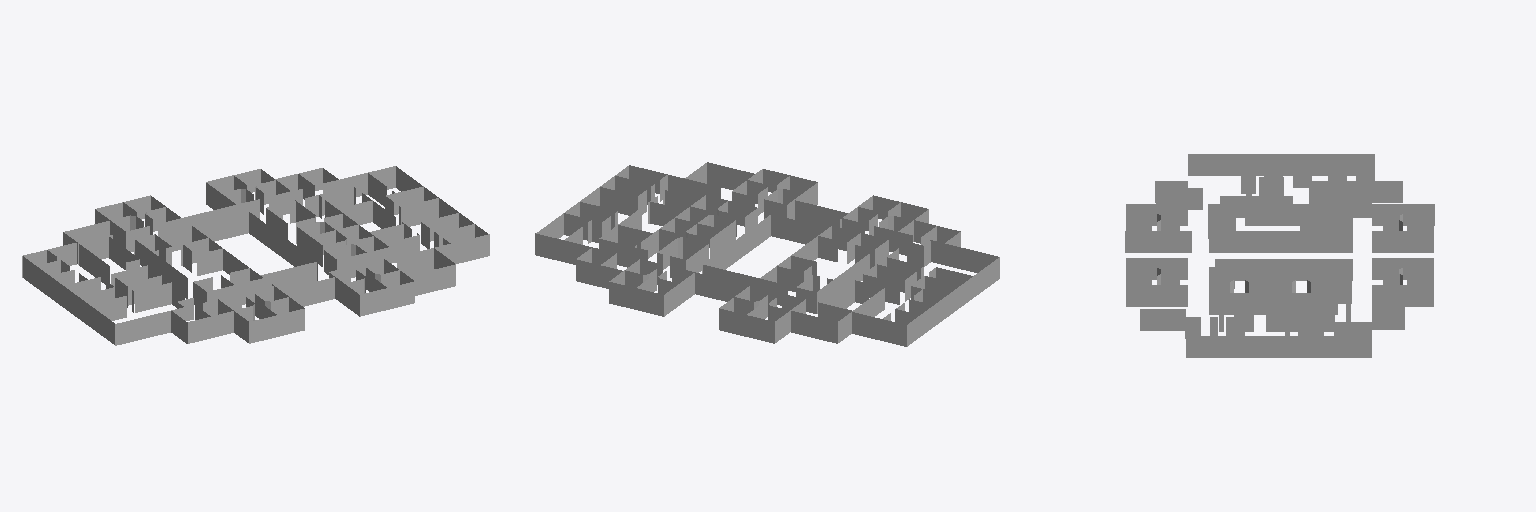
Rendered from bright_4th_floor_walls.obj.
3 views of the same model, side by side, from view 1: azimuth 30°, elevation 25°; view 2: azimuth 150°, elevation 25°; view 3: azimuth 270°, elevation 25° (orthographic).
Visible parts, largest first — view 1: polySurface20; view 2: polySurface20; view 3: polySurface20.
Boxes of the visible parts, x1=… form: polySurface20: x1=22, y1=166, x2=489, y2=345; polySurface20: x1=535, y1=162, x2=999, y2=346; polySurface20: x1=1125, y1=154, x2=1434, y2=357.
Bounding box in the file's own units: 339 × 19.08 × 243.